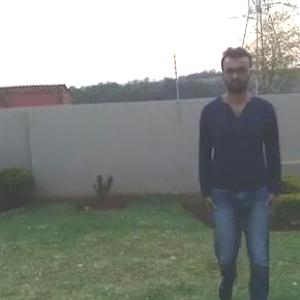follow: (200, 42, 282, 299)
